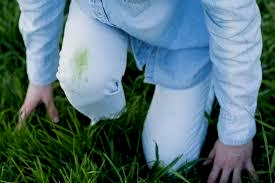earth: (74, 49, 88, 81)
